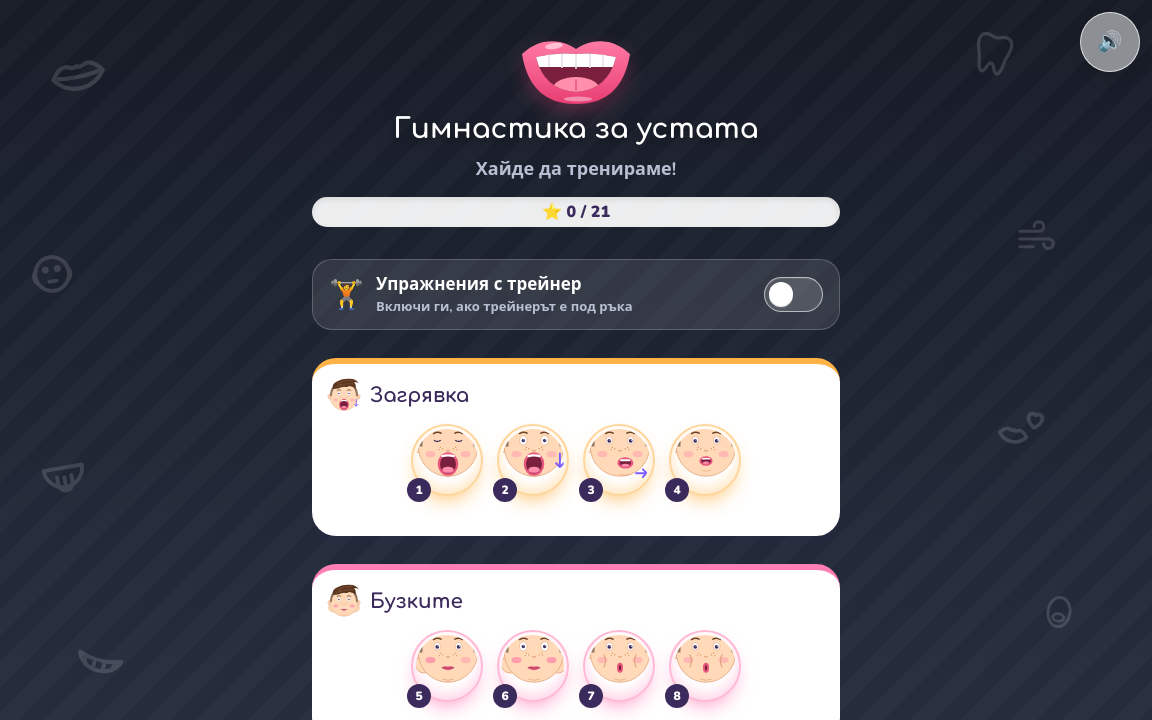
бутонът за звук превключва иконата
Step 1. Click the button named "Звук" → click(1110, 42), box x1=1080 y1=12 x2=1140 y2=72
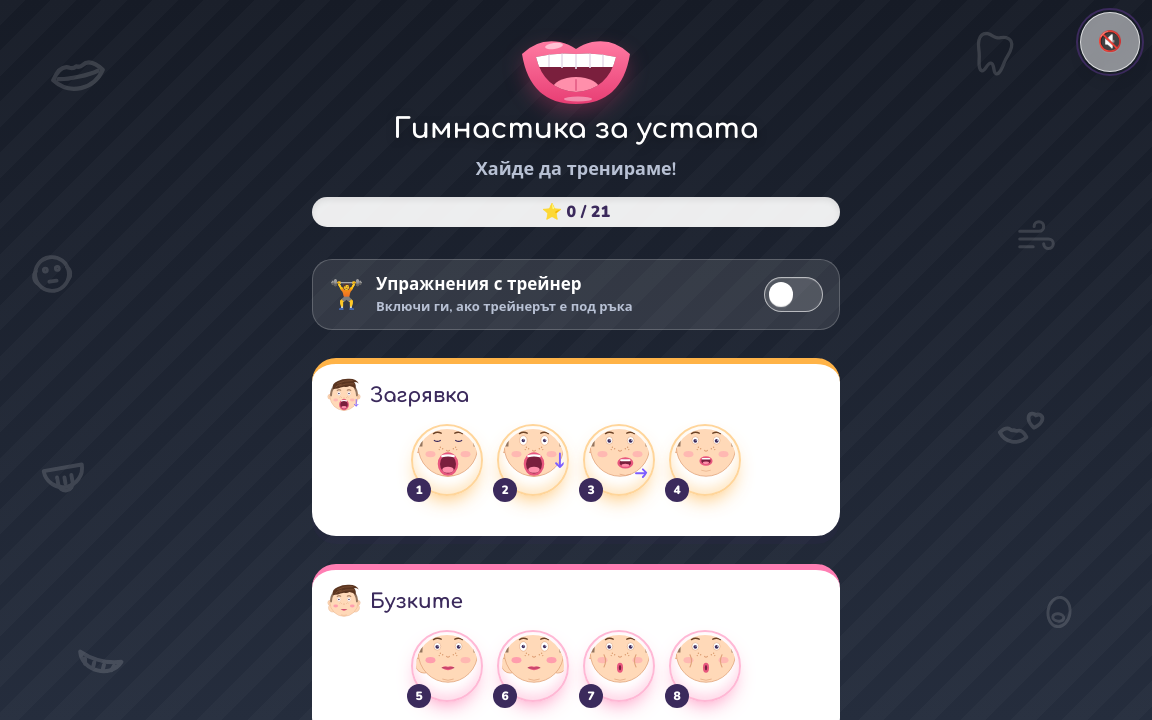
Expected: the button named "Звук" reads "🔇", x1=1080 y1=12 x2=1140 y2=72
